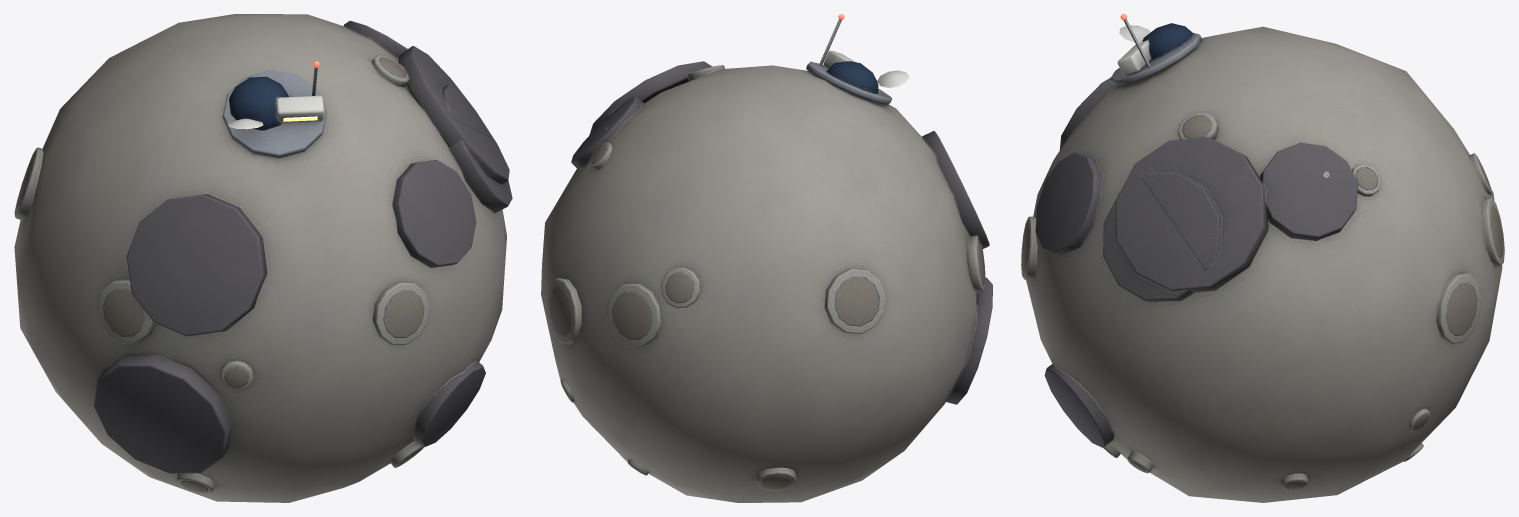
Rendered from moon.glb.
3 renders of one model, left to right at view 1: azimuth 30°, elevation 25°; view 2: azimuth 150°, elevation 25°; view 3: azimuth 270°, elevation 25°, orthographic. The views are drawn at different scales.
Parts seen in each view (by area): view 1: moon; view 2: moon; view 3: moon.
Part boxes in pixels (left/top/right/bottom): moon: left=14, top=14, right=512, bottom=502; moon: left=541, top=19, right=992, bottom=502; moon: left=1021, top=19, right=1504, bottom=502.
Size of the model in its own units: 5.16 by 5.52 by 5.27.
3 materials, 1 textured.
